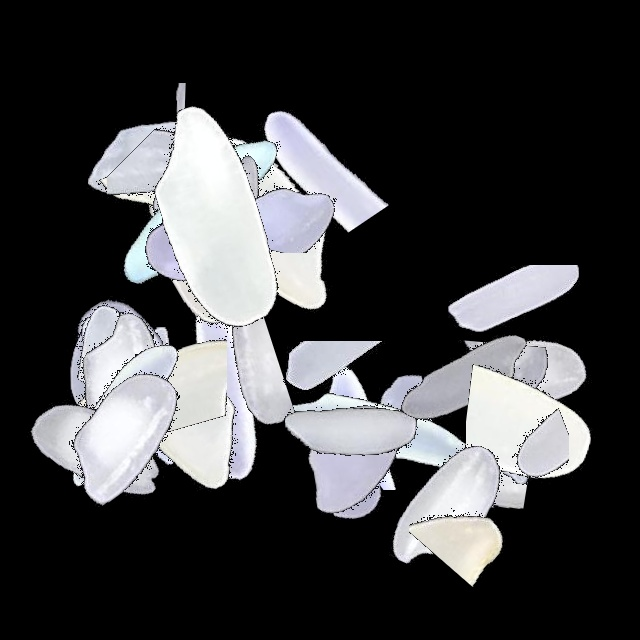Broken: (21, 275, 195, 525), (7, 272, 180, 522), (0, 331, 250, 499), (234, 29, 399, 279), (466, 301, 623, 551), (71, 231, 227, 481), (390, 265, 640, 419), (167, 107, 417, 253), (107, 79, 245, 329), (58, 203, 195, 453), (68, 216, 204, 466), (139, 106, 389, 240), (87, 308, 337, 441), (325, 341, 456, 591), (473, 357, 600, 607), (226, 341, 476, 468), (291, 364, 541, 490), (83, 387, 333, 510), (466, 340, 586, 590), (449, 324, 569, 574), (313, 300, 432, 550), (433, 275, 548, 525), (106, 60, 213, 310), (353, 410, 603, 514), (447, 329, 551, 579), (193, 91, 291, 341), (409, 384, 505, 634), (11, 83, 261, 178), (28, 164, 278, 252), (231, 421, 481, 508), (490, 282, 576, 532)
Full: (98, 263, 348, 513), (34, 32, 284, 282), (74, 100, 324, 350), (0, 230, 250, 480), (390, 250, 640, 500), (82, 77, 332, 327), (137, 95, 387, 345), (252, 306, 502, 556), (229, 332, 479, 582), (72, 87, 322, 337), (390, 290, 640, 540), (225, 308, 475, 558), (337, 249, 587, 499), (76, 120, 326, 370), (324, 381, 574, 631), (0, 256, 250, 506), (0, 287, 250, 537), (85, 94, 335, 344), (0, 311, 250, 561)
